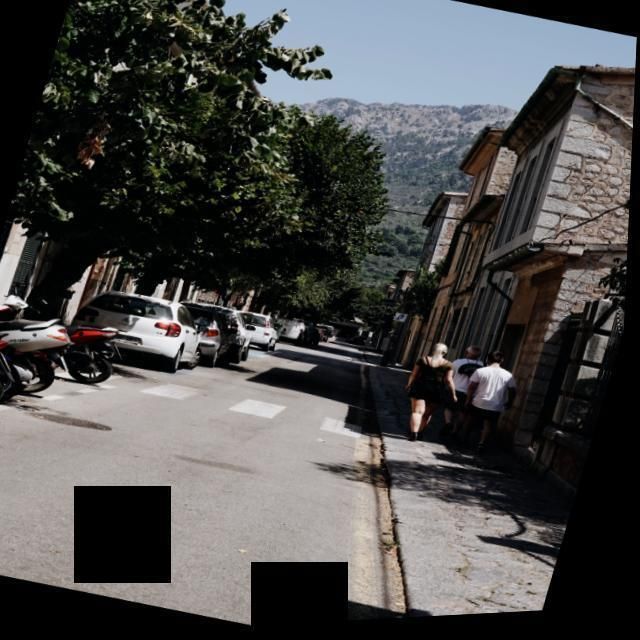tree: (14, 0, 454, 274), (580, 131, 634, 352)
